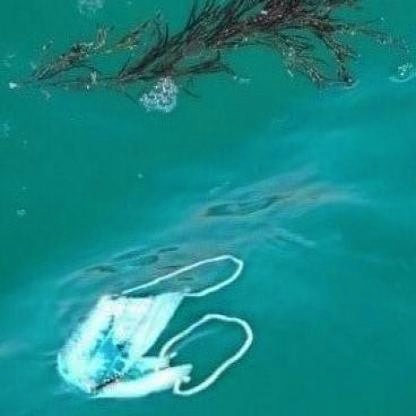Mask: (43, 250, 257, 408)
